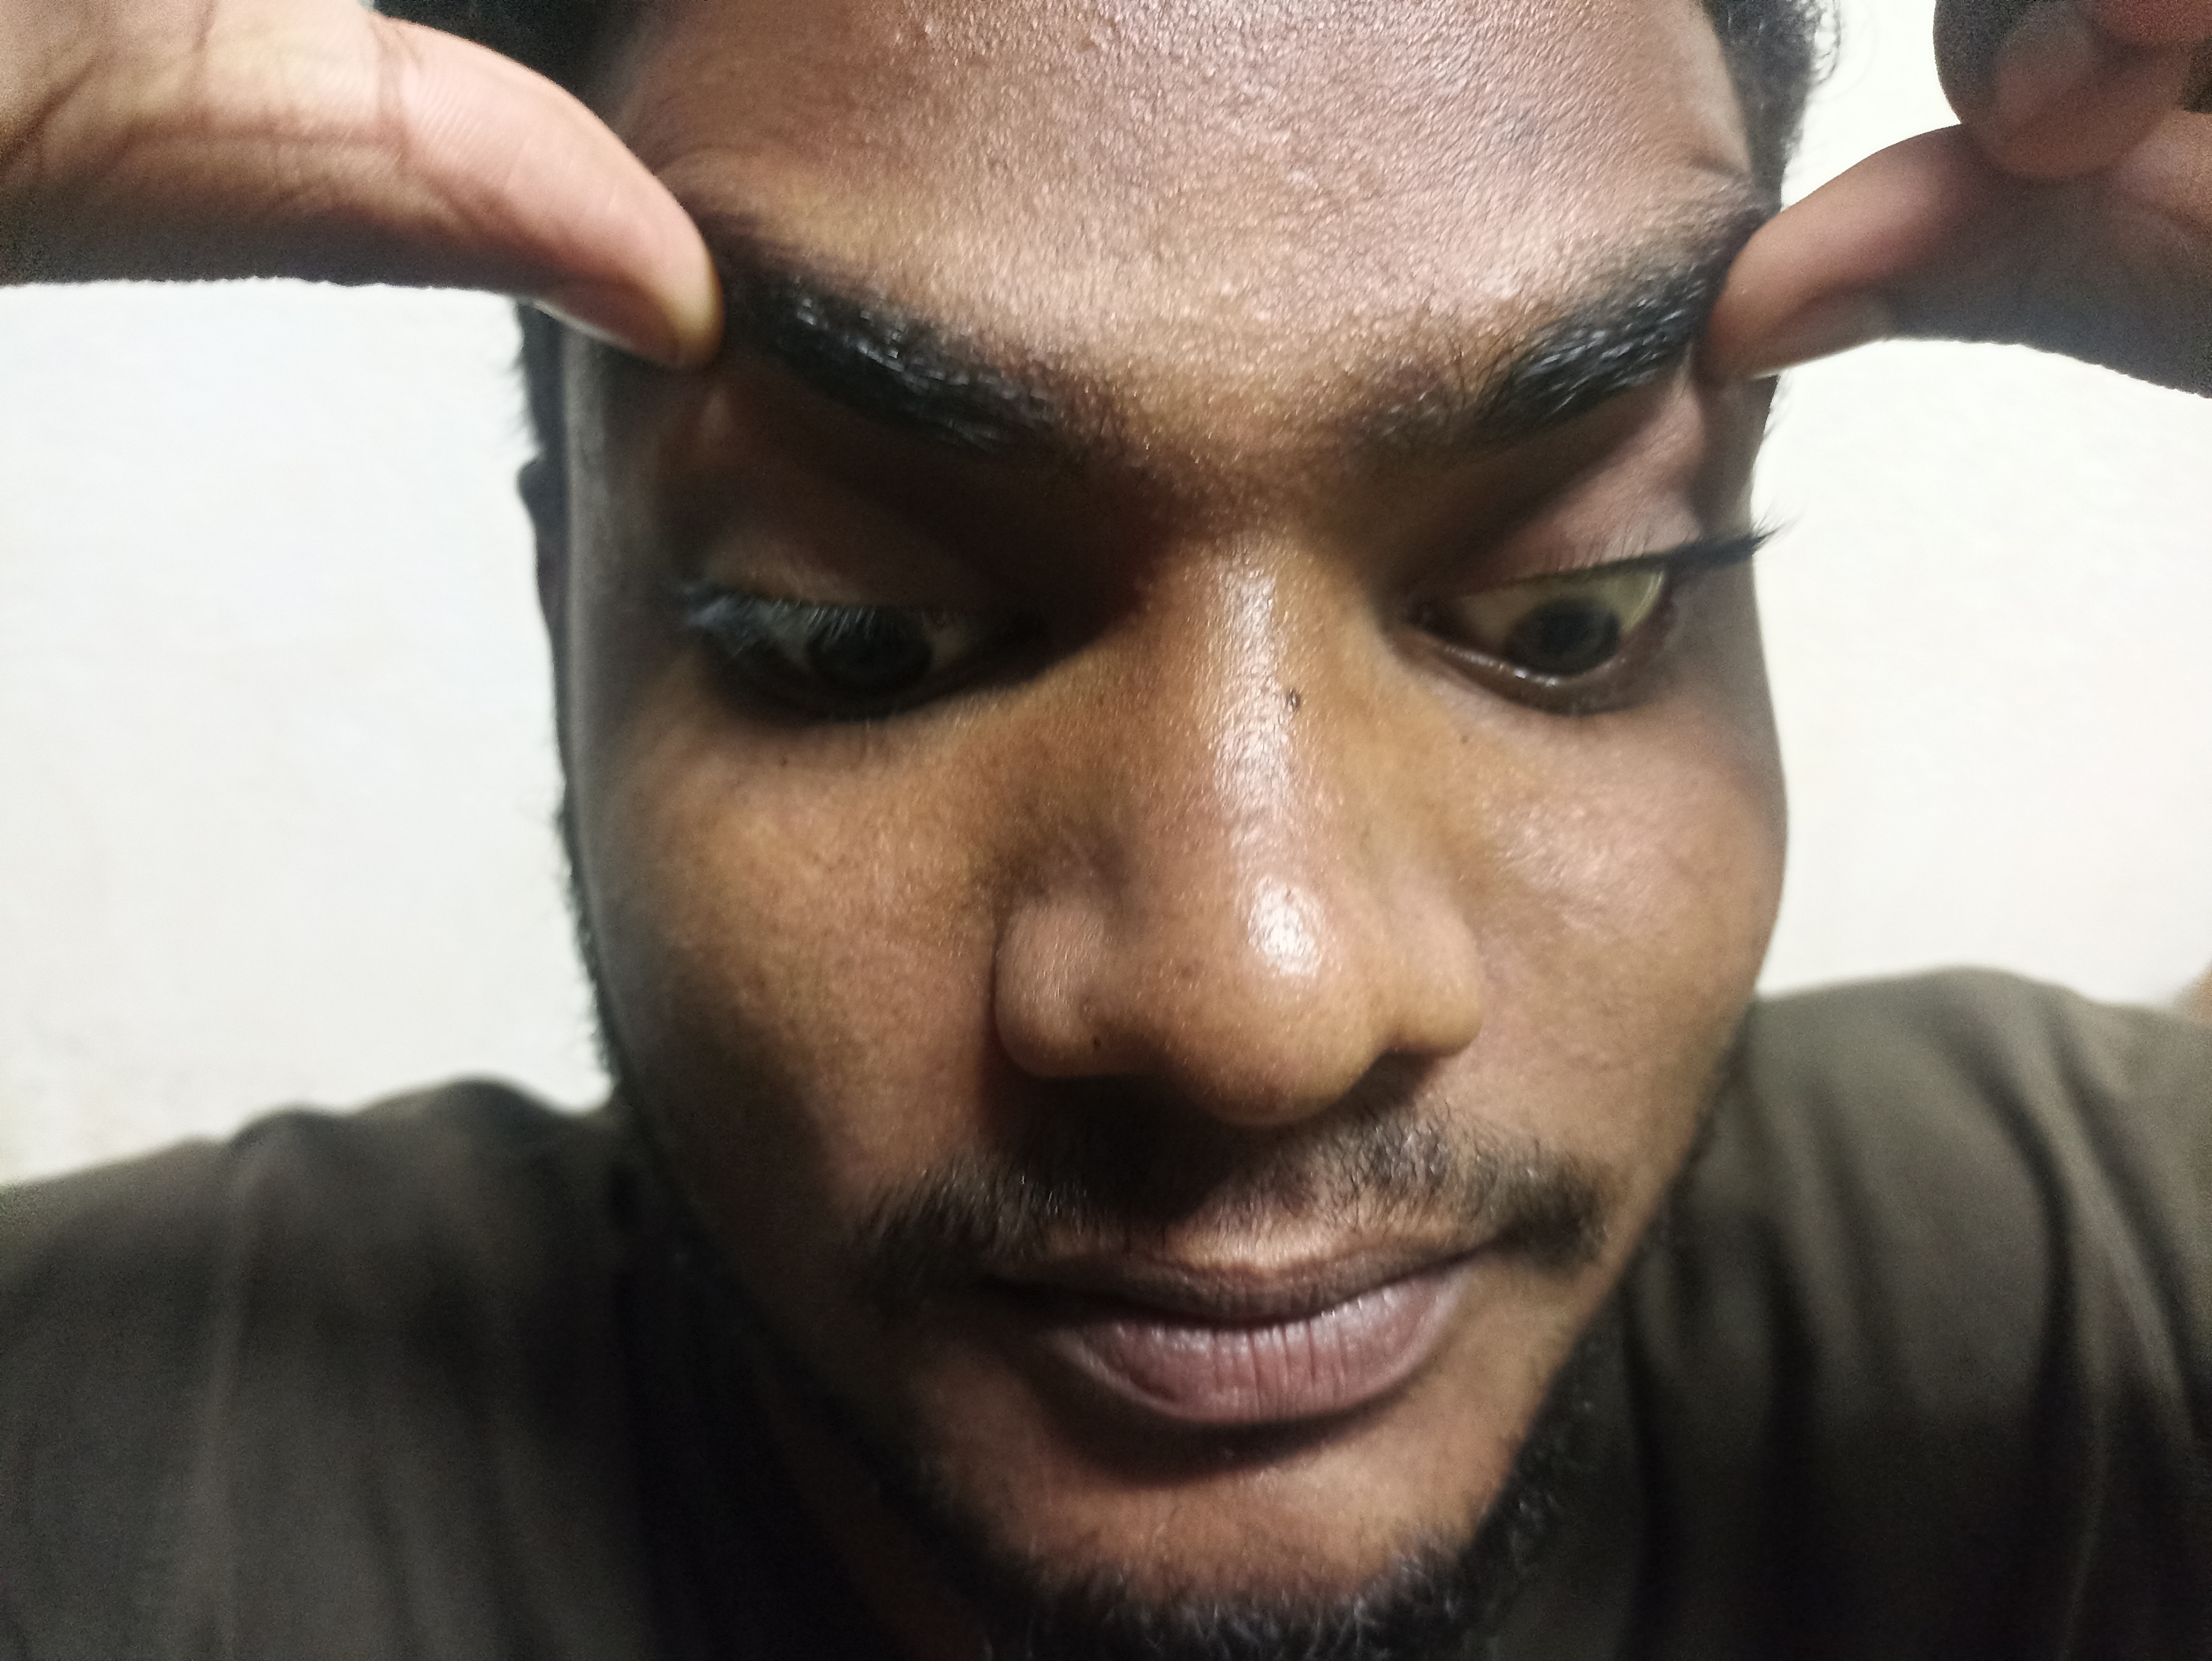EYE DOWN: (558, 415, 1197, 867), (1335, 436, 1870, 858)
